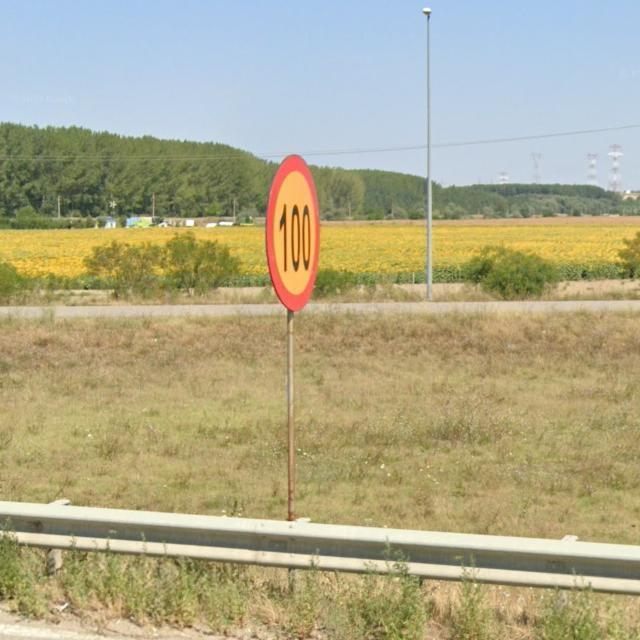forb_speed_over_100: (266, 155, 321, 308)
